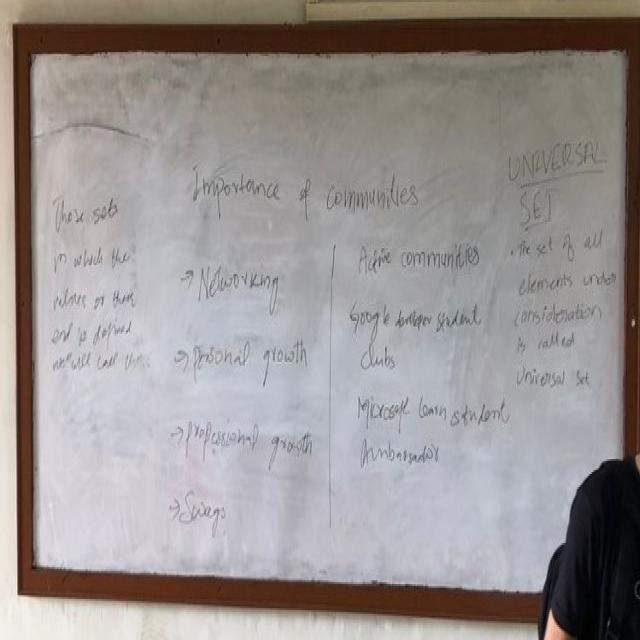White-board: (19, 40, 635, 620)
